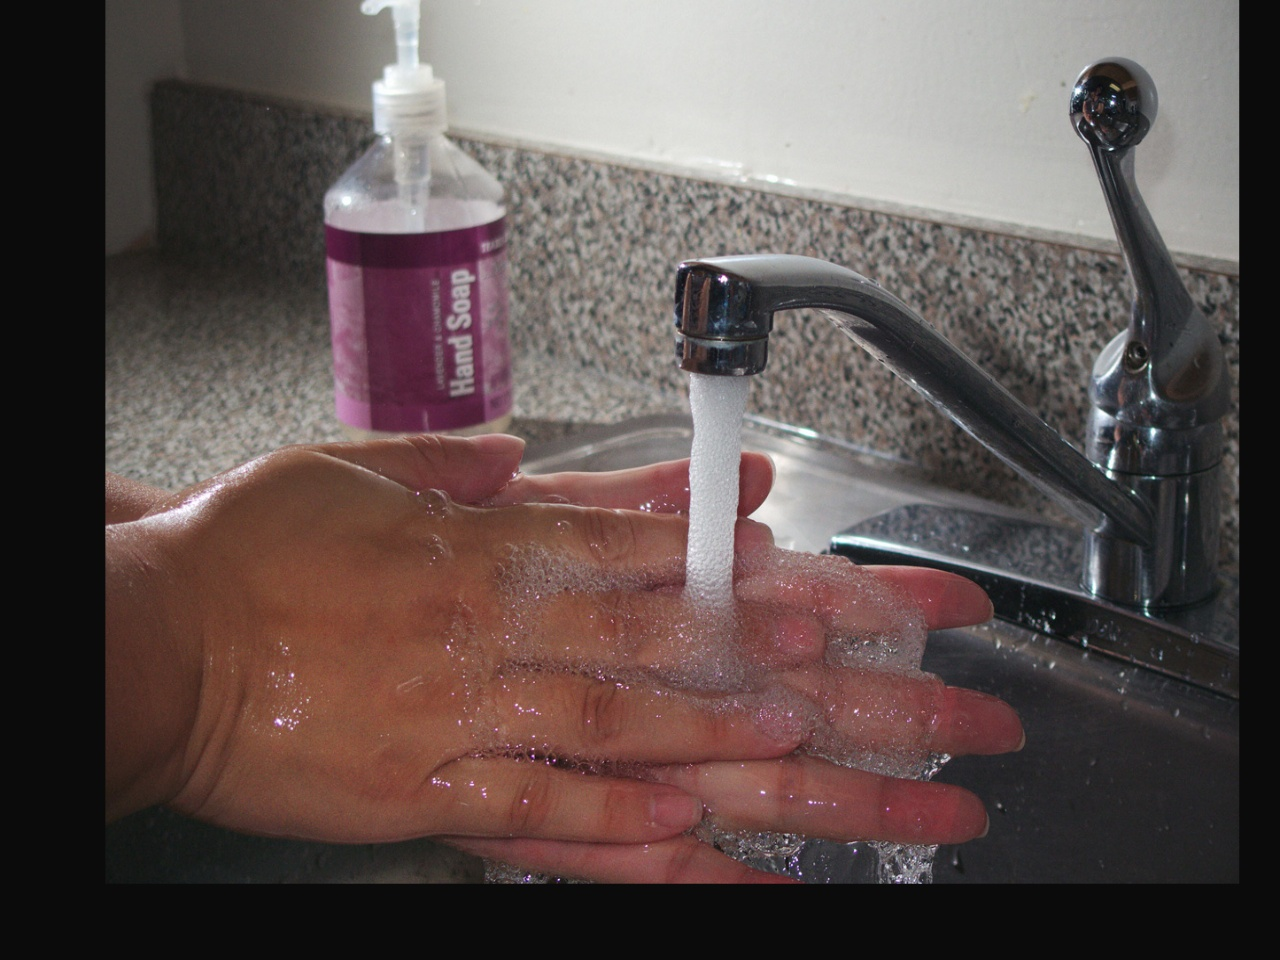washing hand: (234, 223, 1078, 876)
